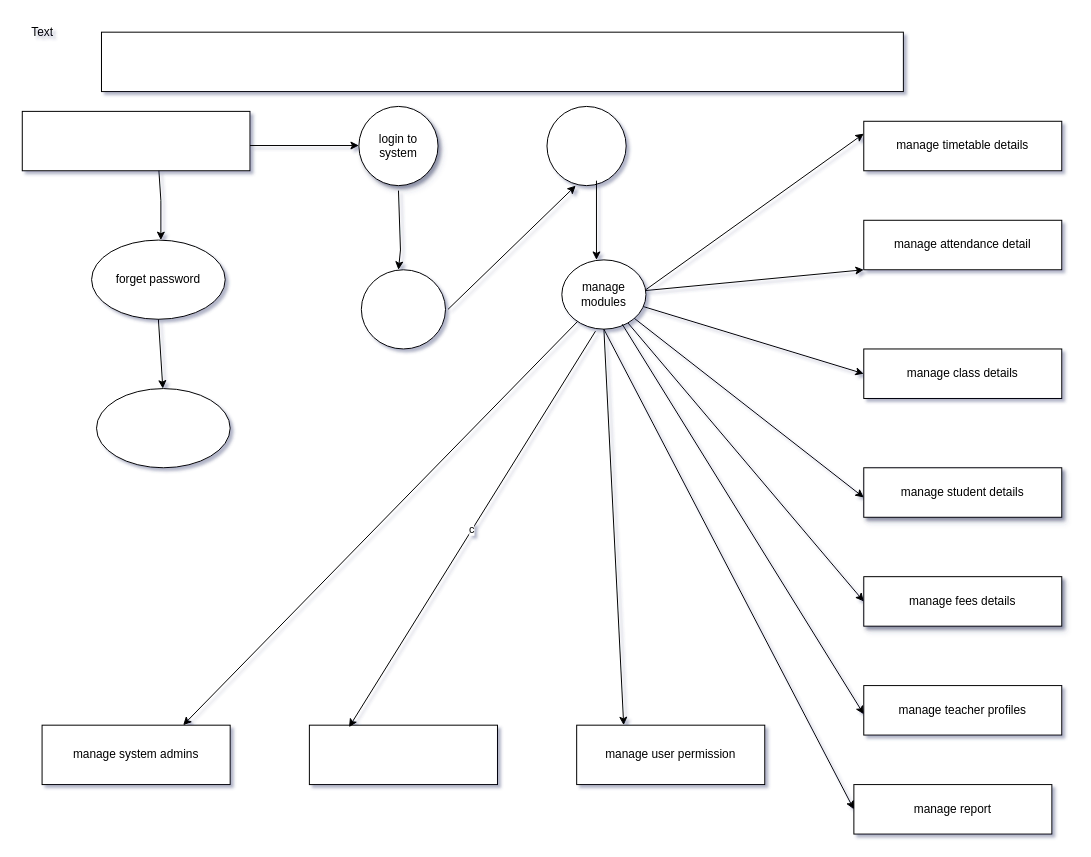
The diagram is 1091 pixels wide and 857 high, and some of its shapes have lost their labels. Here are the shapes that lost their labels. From the top down, the centre of each, then its label:
At (x=501, y=61): "student information system".
At (x=135, y=140): "admin".
At (x=586, y=145): "check roles of access".
At (x=403, y=309): "check credintials".
At (x=163, y=428): "send email to user".
At (x=402, y=754): "manage roles of user".
